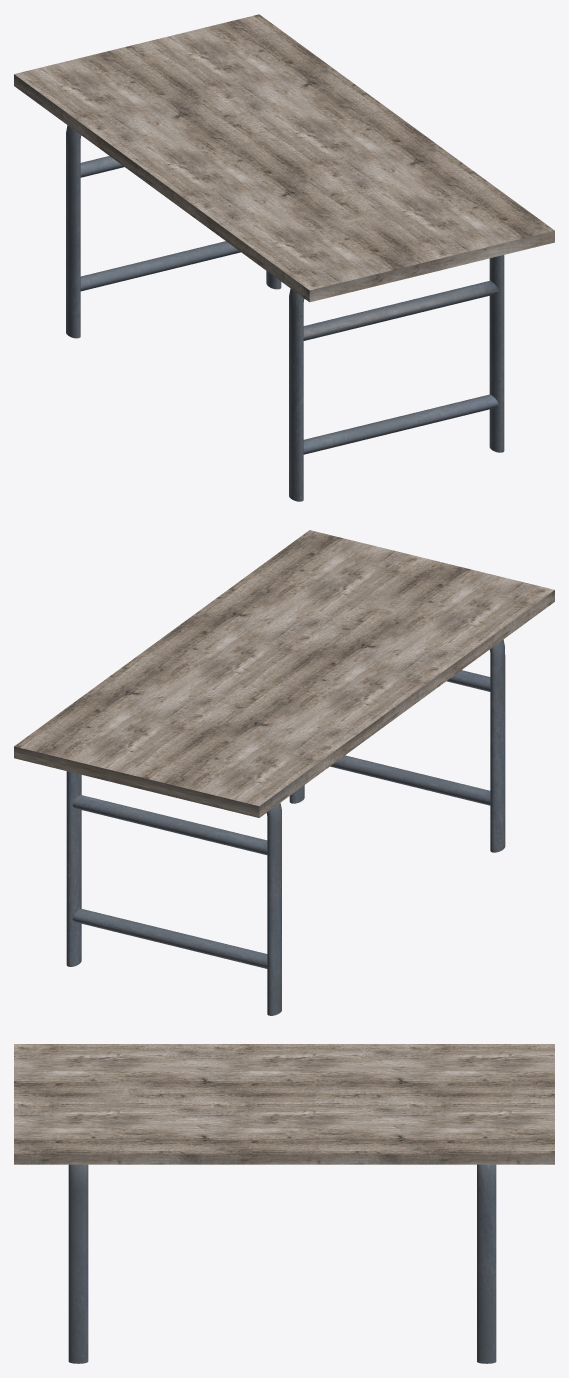
Rendered from table.gltf.
The picture shows the model from 3 angles, top to bottom: view 1: azimuth 30°, elevation 25°; view 2: azimuth 150°, elevation 25°; view 3: azimuth 270°, elevation 25°; orthographic projection. The views are drawn at different scales.
Parts seen in each view (by area): view 1: Cube; view 2: Cube; view 3: Cube.
Part boxes in pixels (x1,y1,x2,y2): Cube: [14, 14, 554, 501]; Cube: [14, 530, 554, 1015]; Cube: [14, 1044, 554, 1363].
Size of the model in its own units: 95.84 by 88.92 by 200.
1 material, 1 textured.
